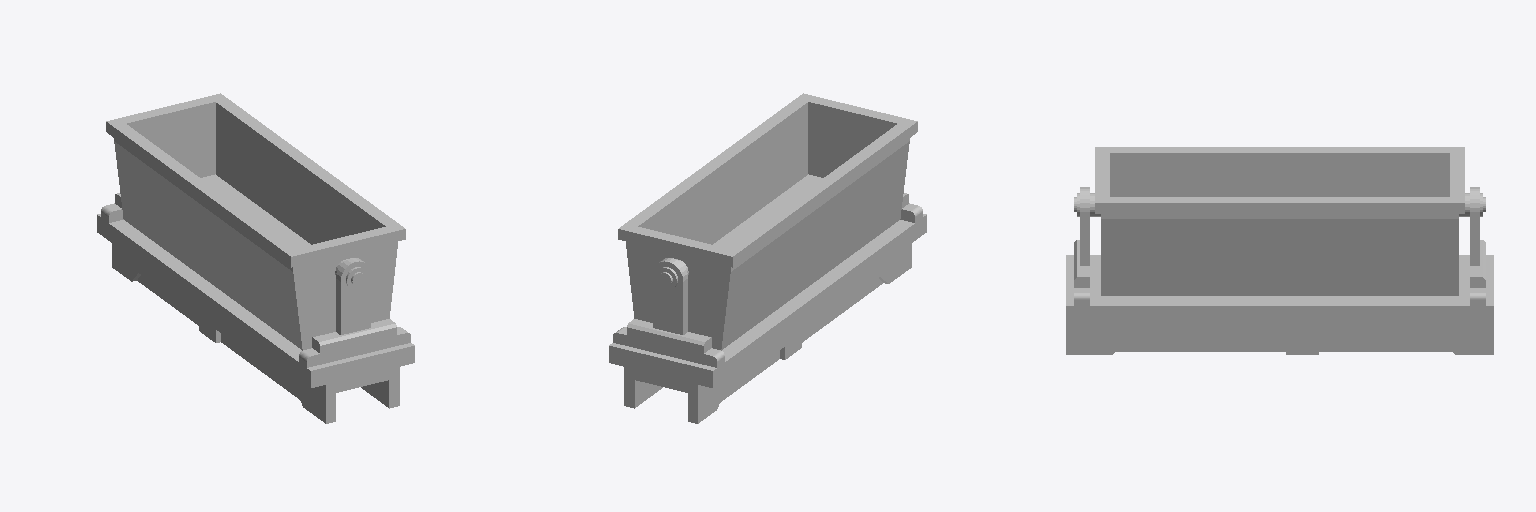
File: monorailTrain_cargo_exclusive.obj
3 renders of one model, left to right at view 1: azimuth 30°, elevation 25°; view 2: azimuth 150°, elevation 25°; view 3: azimuth 270°, elevation 25°, orthographic.
Visible parts, largest first — view 1: cargoBed, monorailTrain_cargo_exclusive; view 2: cargoBed, monorailTrain_cargo_exclusive; view 3: cargoBed, monorailTrain_cargo_exclusive.
Boxes of the visible parts, x1,y1,x2,y2 form: cargoBed: [106, 93, 405, 350]; monorailTrain_cargo_exclusive: [97, 193, 414, 423]; cargoBed: [618, 93, 917, 350]; monorailTrain_cargo_exclusive: [609, 193, 926, 423]; cargoBed: [1095, 147, 1464, 295]; monorailTrain_cargo_exclusive: [1066, 187, 1493, 354].
Bounding box in the file's own units: 4.46 × 6.01 × 14.4.